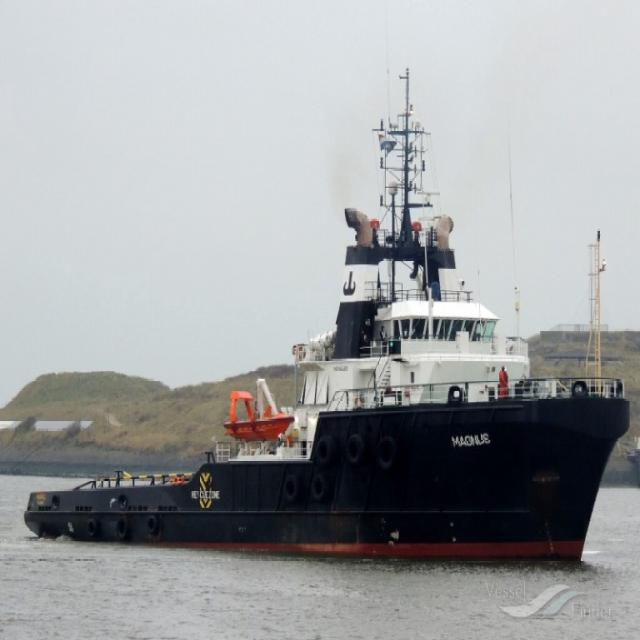OCR: (445, 422, 493, 452)
